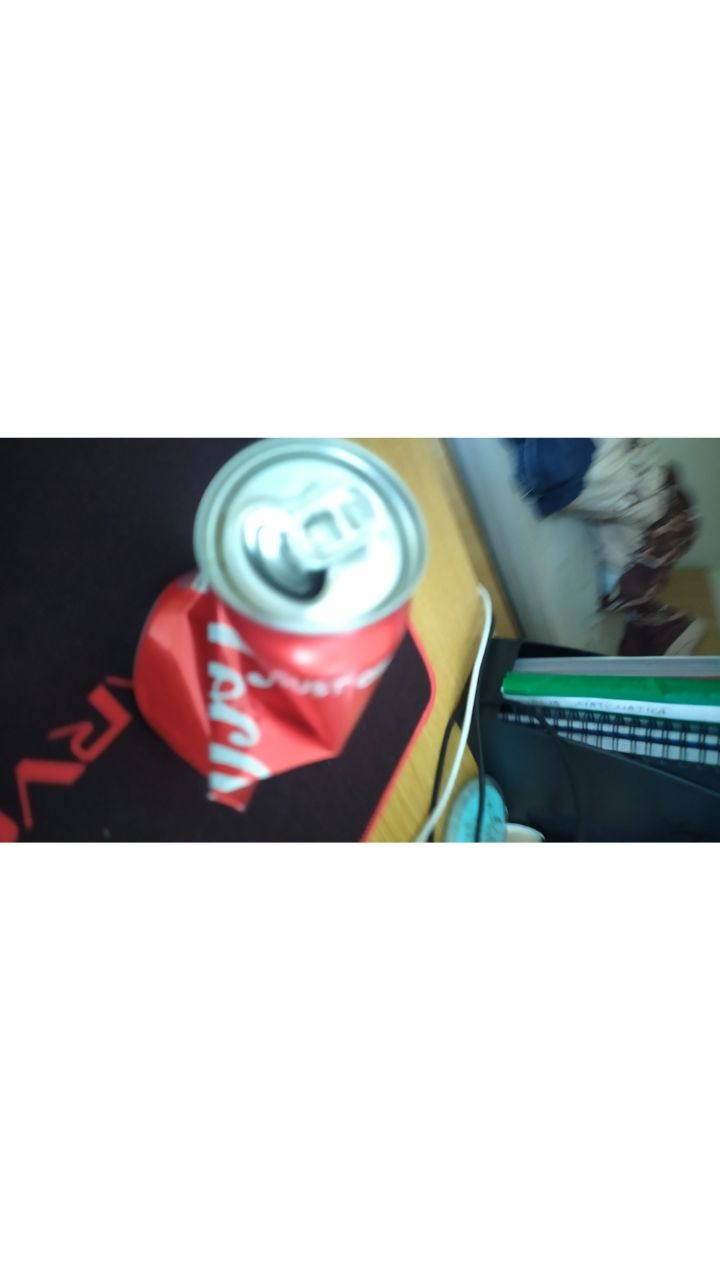Can: (133, 439, 432, 809)
